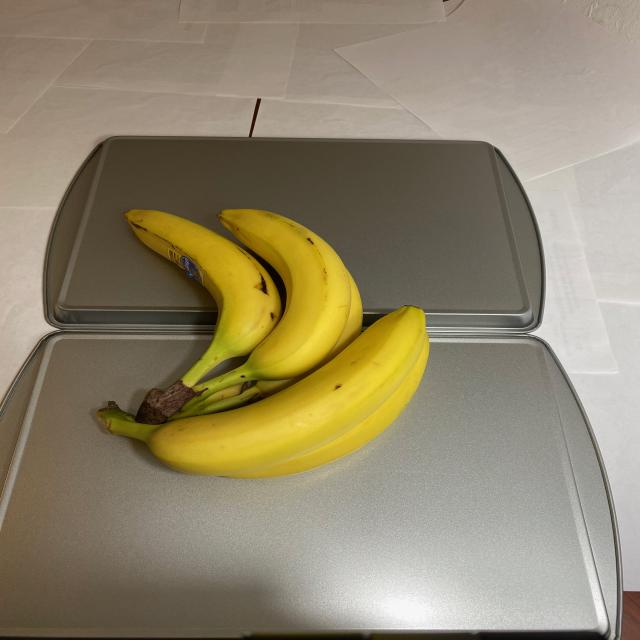banana: (110, 206, 433, 477)
